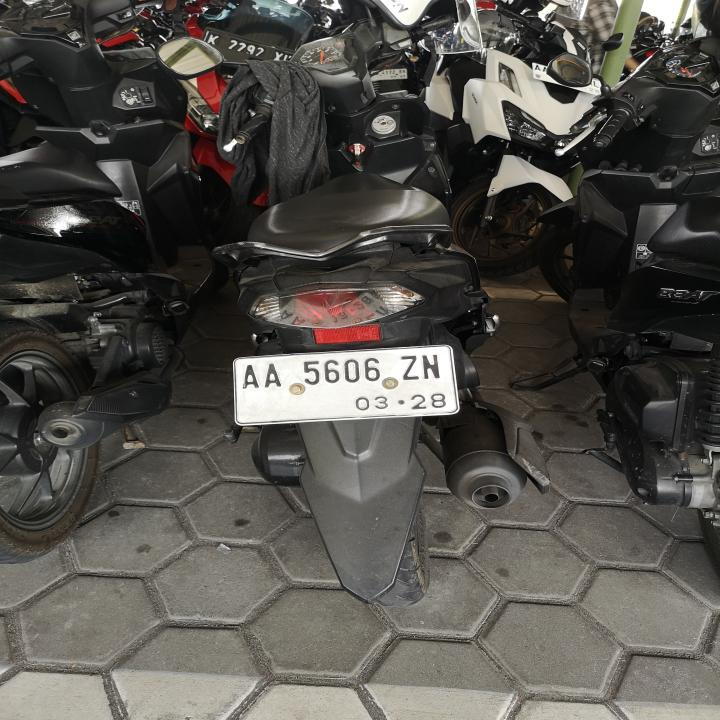plate: (229, 342, 462, 430)
